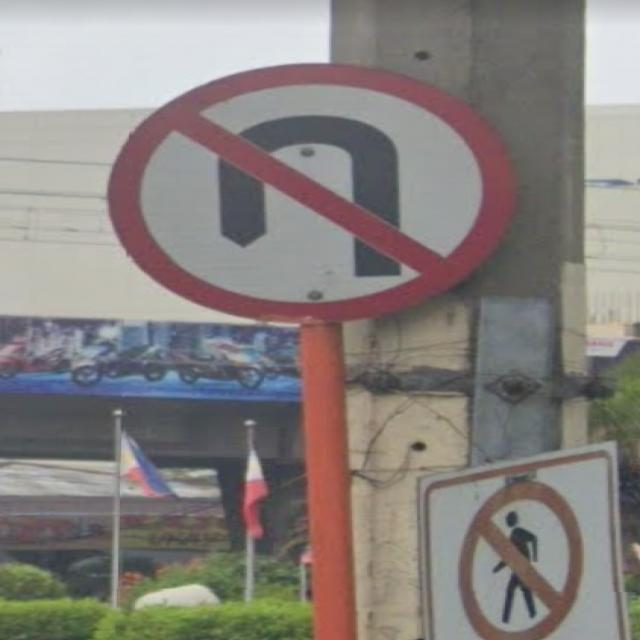no u turn: (106, 64, 516, 320)
